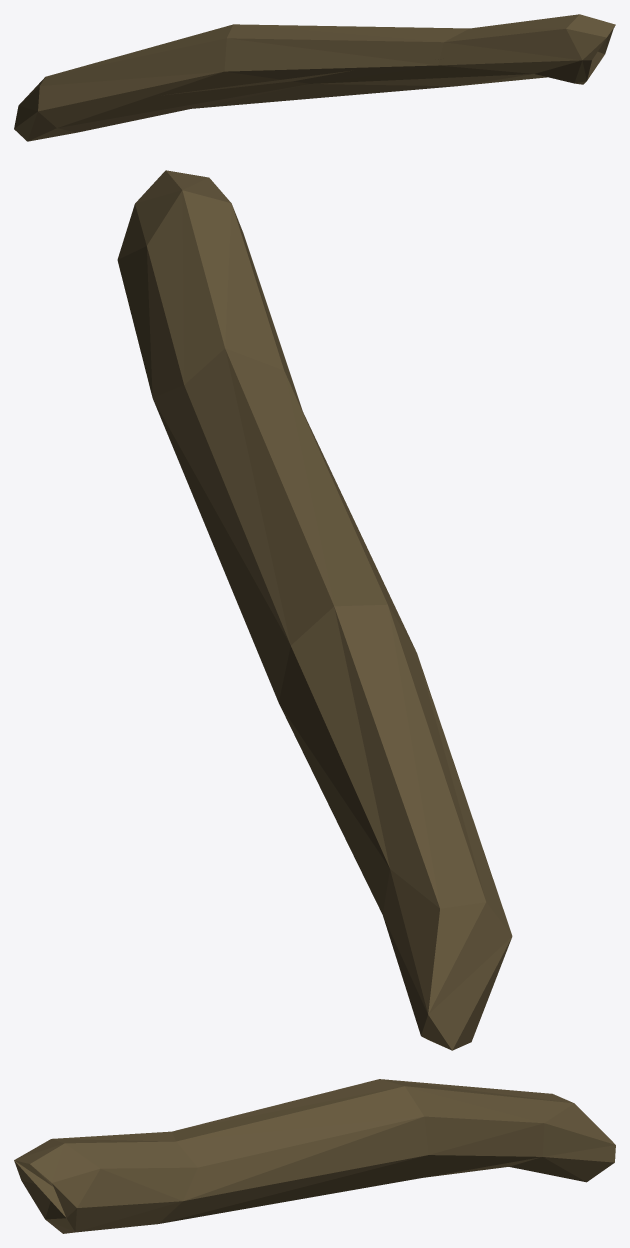
The model's file is ant-femur-hind-right.dae.
3 views of the same model, one above another, from view 1: azimuth 30°, elevation 25°; view 2: azimuth 150°, elevation 25°; view 3: azimuth 270°, elevation 25° (orthographic). The views are drawn at different scales.
Parts seen in each view (by area): view 1: ant-femur-hind-right; view 2: ant-femur-hind-right; view 3: ant-femur-hind-right.
Boxes of the visible parts, box(x1,y1,x2,y2) form: ant-femur-hind-right: box(14, 14, 615, 141); ant-femur-hind-right: box(117, 170, 512, 1050); ant-femur-hind-right: box(14, 1079, 615, 1233).
Bounding box in the file's own units: 4.7 × 5.1 × 2.26.
